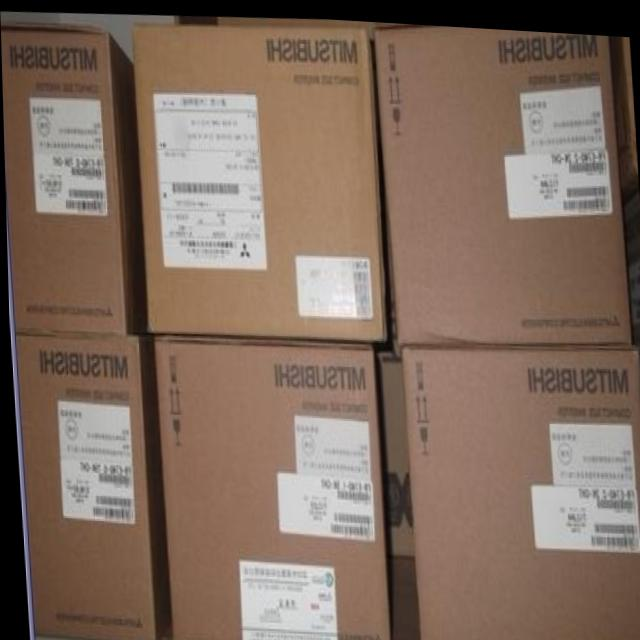box: (372, 23, 630, 339), (132, 24, 386, 333), (399, 330, 640, 640), (150, 331, 387, 640), (13, 331, 168, 640), (1, 29, 144, 332), (371, 336, 412, 552), (608, 28, 637, 194), (622, 175, 640, 353)
